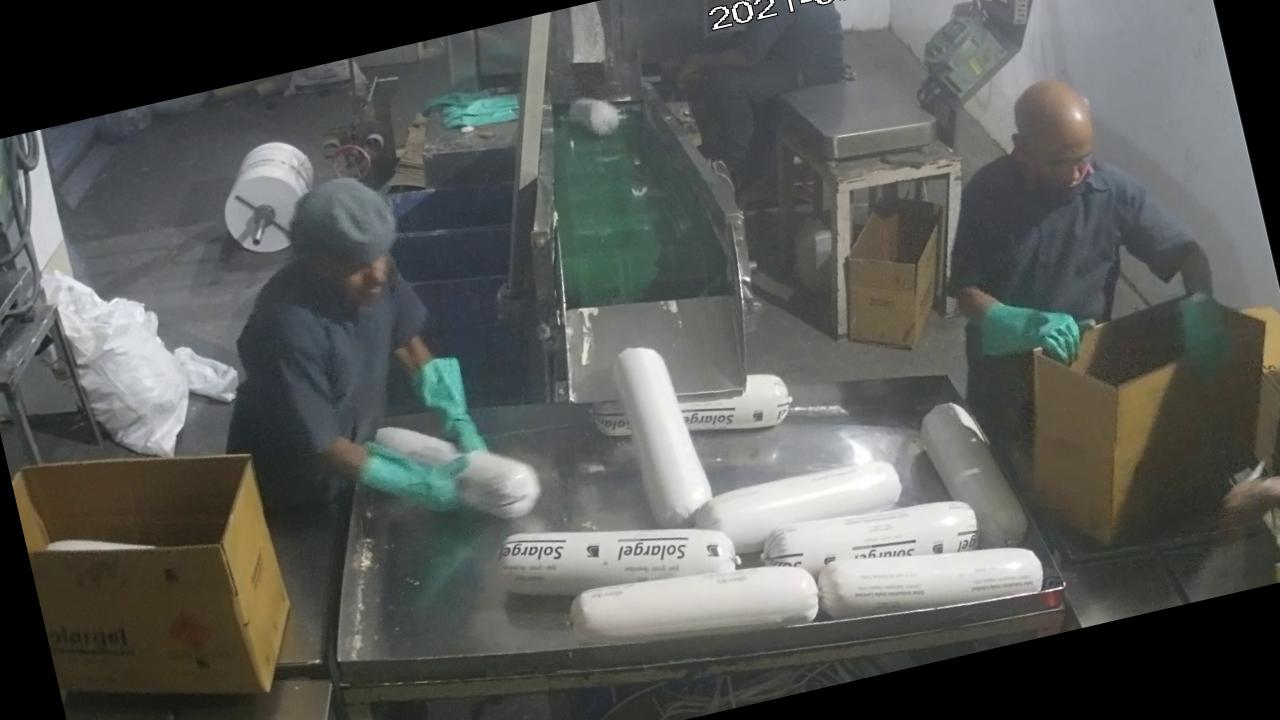Gloves: (950, 256, 1106, 404), (402, 334, 501, 481)
No-gloves: (661, 24, 774, 108)
